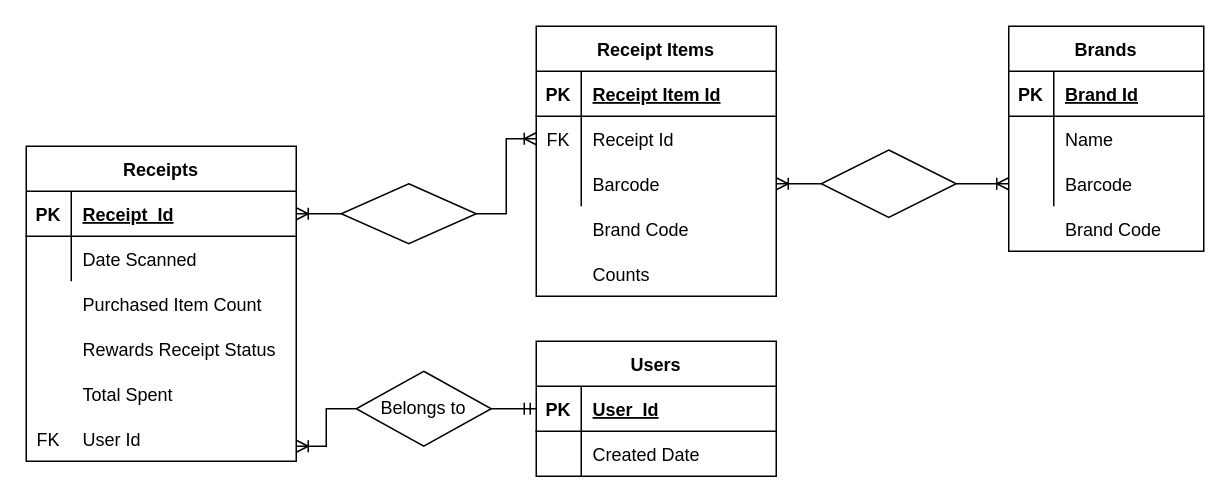
Some shapes in this 1230 by 503 pixel diagram are drawn without their labels. The box of each missing label's shape, as (x1, y1, x2, y2) in pixels:
Belong to: (820, 148, 956, 218)
Have: (340, 182, 476, 244)
